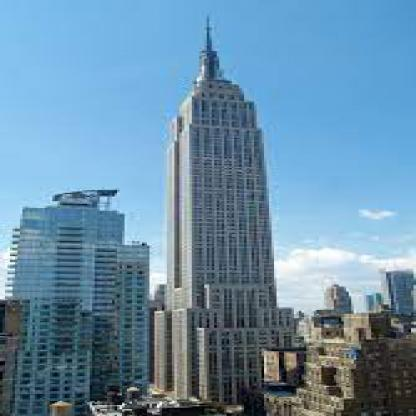Empire-State-building: (154, 3, 304, 409)
